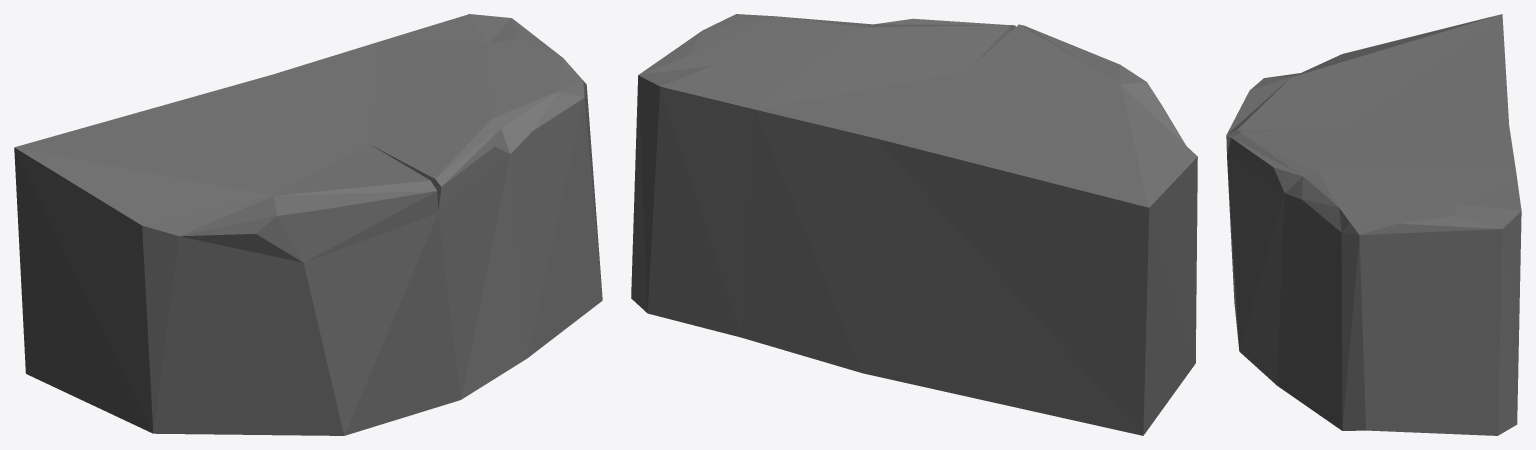
File: rock_017.glb
The picture shows the model from 3 angles, left to right: view 1: azimuth 30°, elevation 25°; view 2: azimuth 150°, elevation 25°; view 3: azimuth 270°, elevation 25°; orthographic projection. The views are drawn at different scales.
Visible parts, largest first — view 1: rock_017; view 2: rock_017; view 3: rock_017.
Boxes of the visible parts, bbox=[...] form: rock_017: bbox=[14, 14, 602, 435]; rock_017: bbox=[631, 14, 1197, 435]; rock_017: bbox=[1226, 14, 1521, 435].
Size of the model in its own units: 37.17 by 16.89 by 20.37.
Materials: 1 (1 with a texture image).
